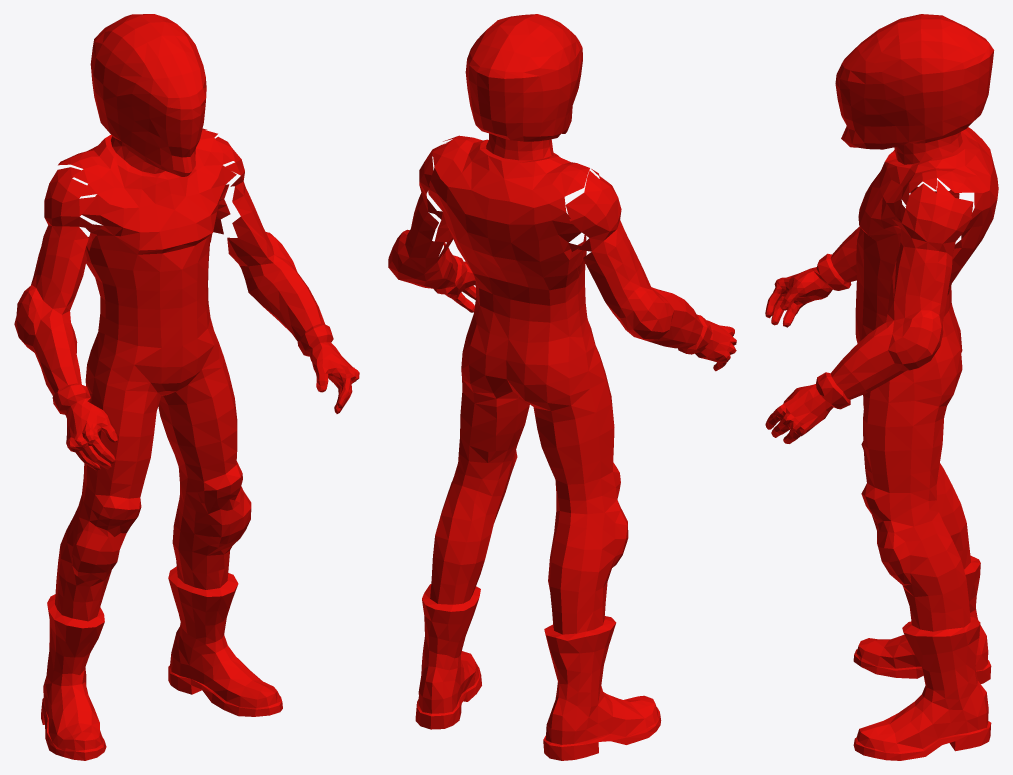
Rendered from crew.glb.
3 views of the same model, side by side, from view 1: azimuth 30°, elevation 25°; view 2: azimuth 150°, elevation 25°; view 3: azimuth 270°, elevation 25° (orthographic).
Visible parts, largest first — view 1: body, arm_r, fore_r, fore_l, arm_l; view 2: body, arm_r, fore_r, arm_l, fore_l; view 3: body, arm_l, fore_l, fore_r.
Part boxes in pixels (x1,y1,x2,y2): body: (41,14,282,760); arm_r: (14,158,101,337); fore_r: (19,320,117,495); fore_l: (248,262,359,413); arm_l: (215,136,297,292); body: (415,14,661,760); arm_r: (559,170,672,338); fore_r: (600,293,736,471); arm_l: (388,142,449,281); fore_l: (399,242,476,312); body: (835,14,998,760); arm_l: (874,180,972,362); fore_l: (765,328,931,492); fore_r: (765,226,860,327).
Size of the model in its own units: 0.436 by 1 by 0.3072.
